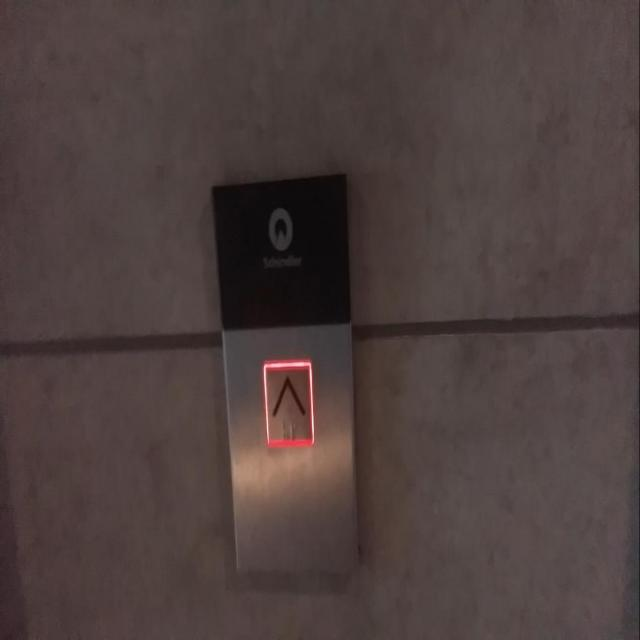up: (260, 357, 318, 449)
